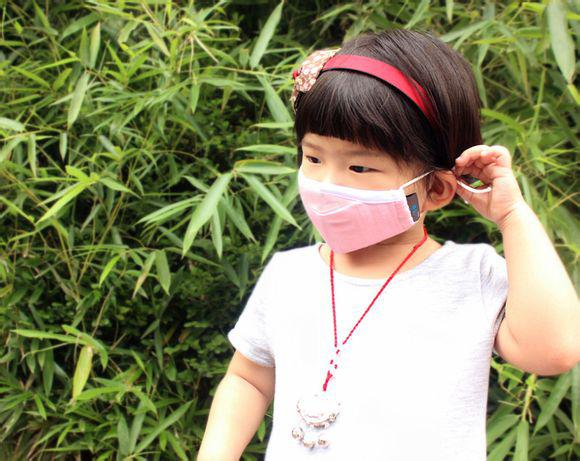OK: (295, 138, 417, 254)
